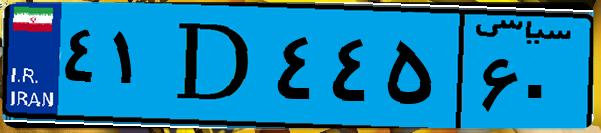0: (525, 38, 570, 115)
1: (110, 28, 158, 98)
4: (270, 28, 330, 110), (330, 28, 385, 110), (57, 26, 110, 100)
5: (385, 28, 445, 110)
6: (475, 38, 525, 113)
D: (158, 12, 270, 120)
